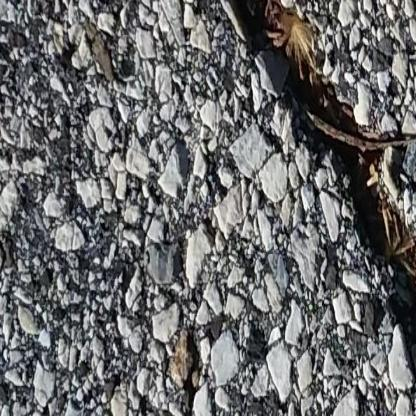Cracks: (200, 0, 416, 369)
